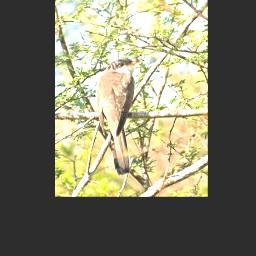Cuckoo: (95, 58, 144, 174)
